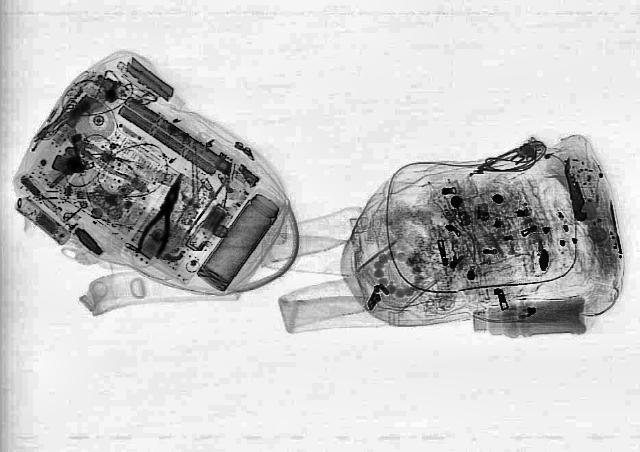Pliers: (132, 170, 192, 260)
